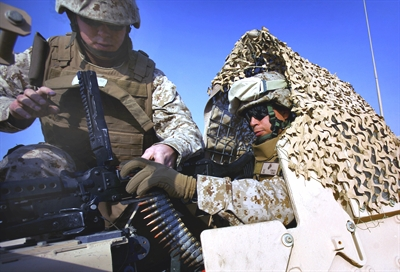rifle in hand: (1, 152, 261, 210)
